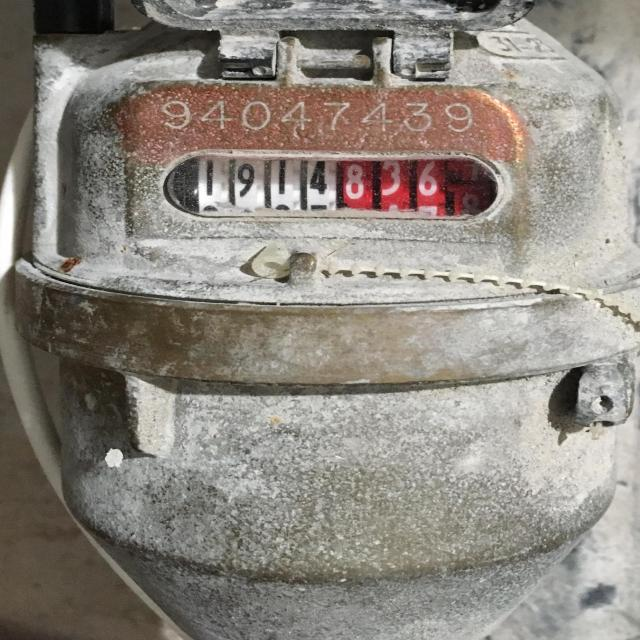gaz_meter: (39, 38, 640, 302)
indication: (189, 154, 497, 214)
